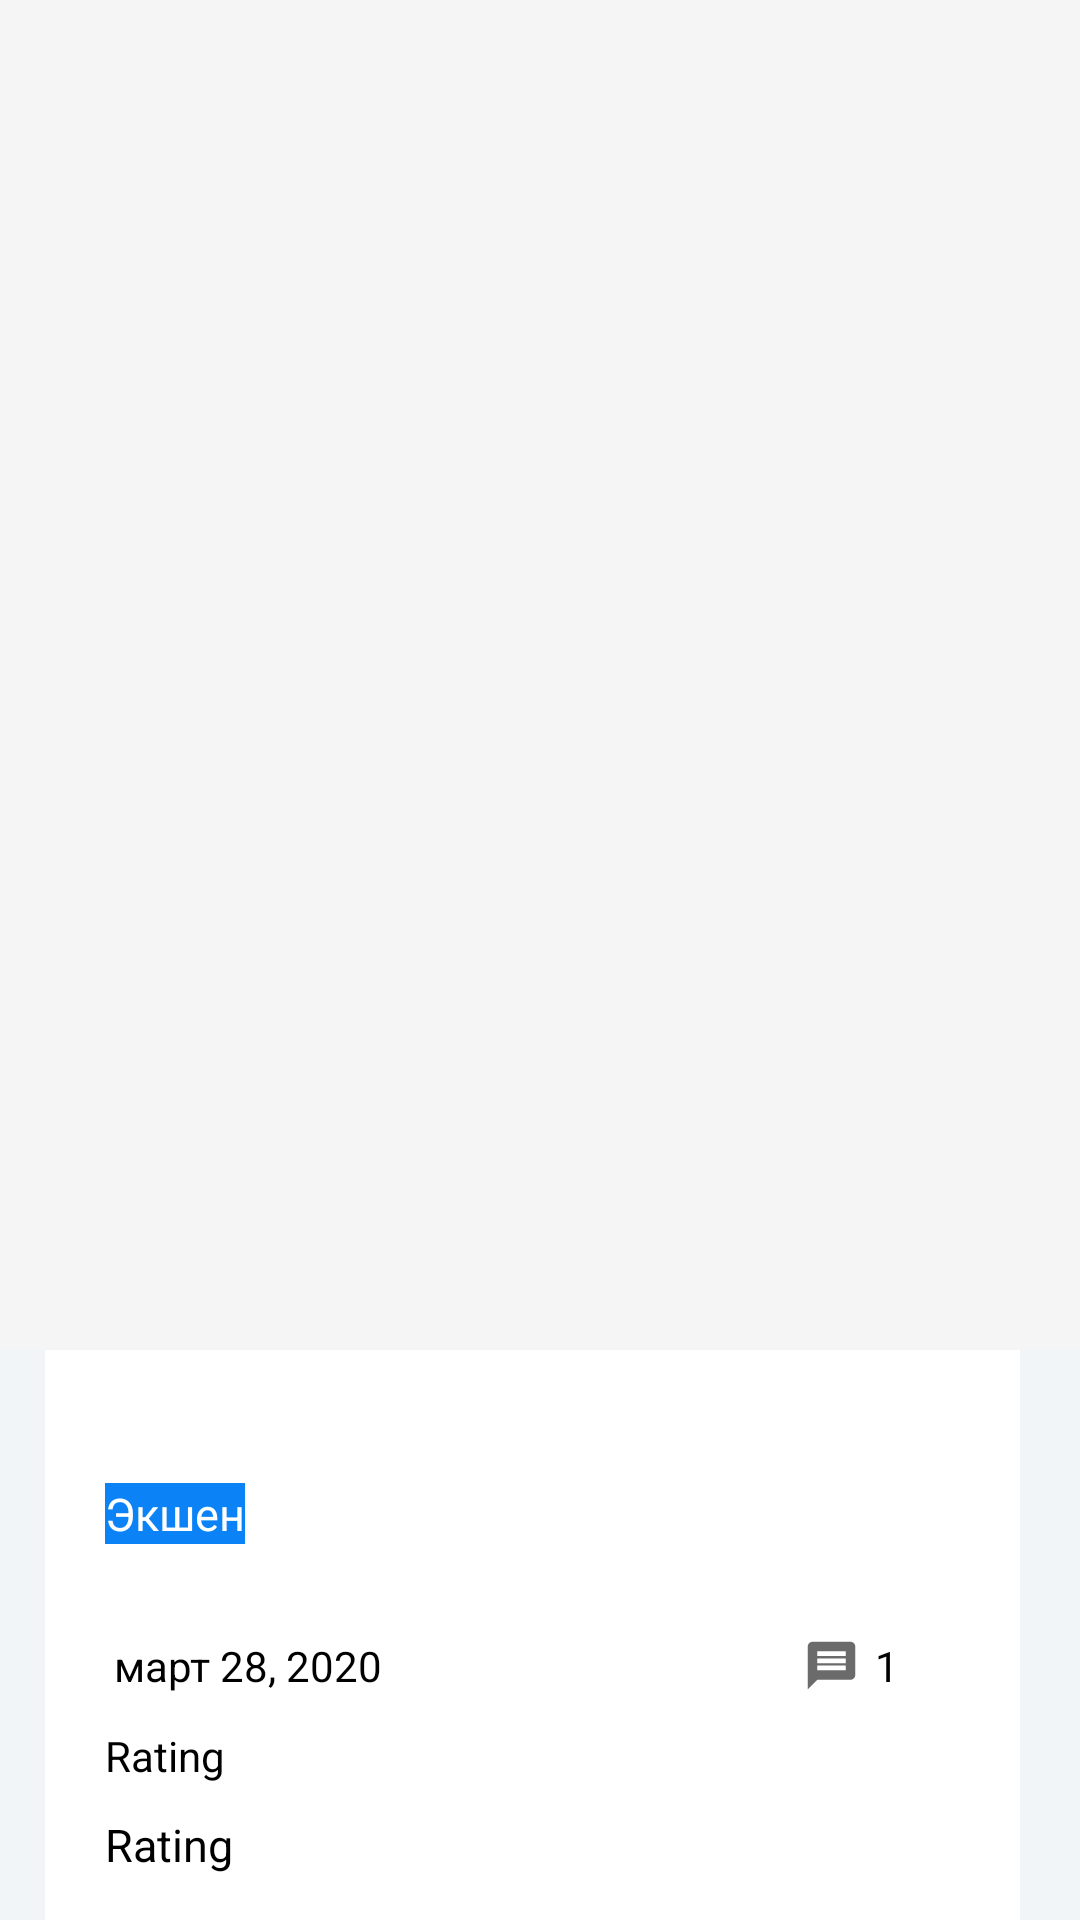

Where to tap for icons on this 1080 × 1920 app screen, as (x=x, y=y):
message: (x=831, y=1665)
